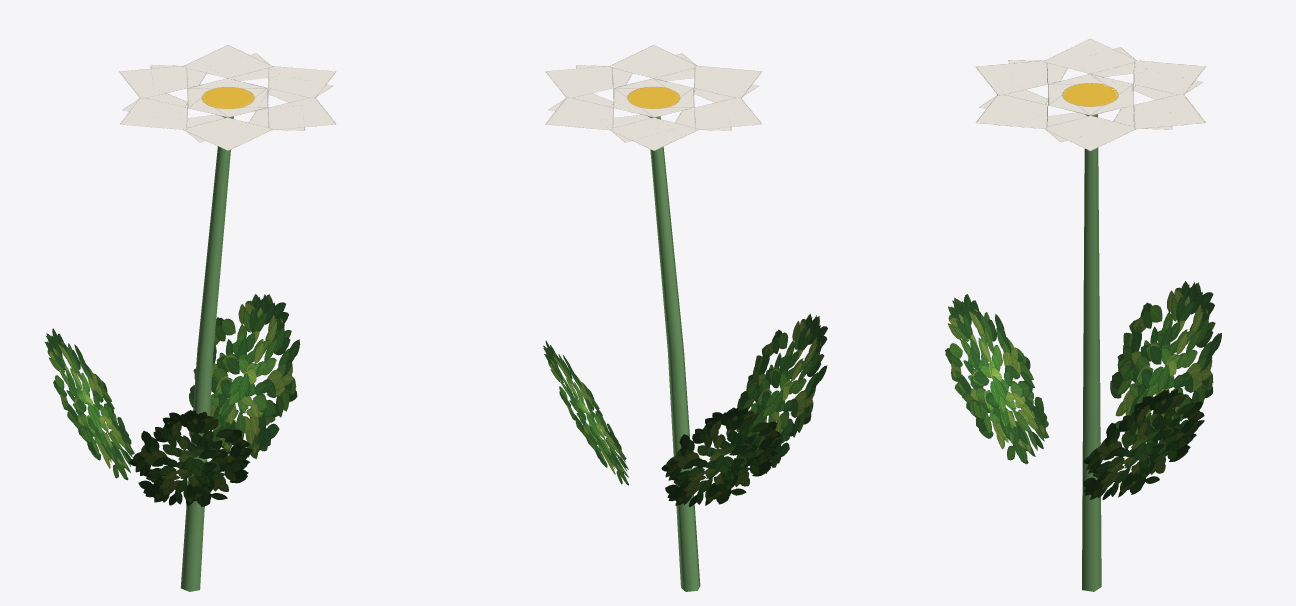
Rendered from flower.glb.
3 views of the same model, side by side, from view 1: azimuth 30°, elevation 25°; view 2: azimuth 150°, elevation 25°; view 3: azimuth 270°, elevation 25° (orthographic). The views are drawn at different scales.
Parts seen in each view (by area): view 1: flower; view 2: flower; view 3: flower.
Boxes of the visible parts, x1,y1,x2,y2 form: flower: [45, 45, 336, 591]; flower: [543, 45, 827, 591]; flower: [945, 38, 1221, 591].
Size of the model in its own units: 0.409 by 0.55 by 0.3727.
3 materials, 2 textured.
